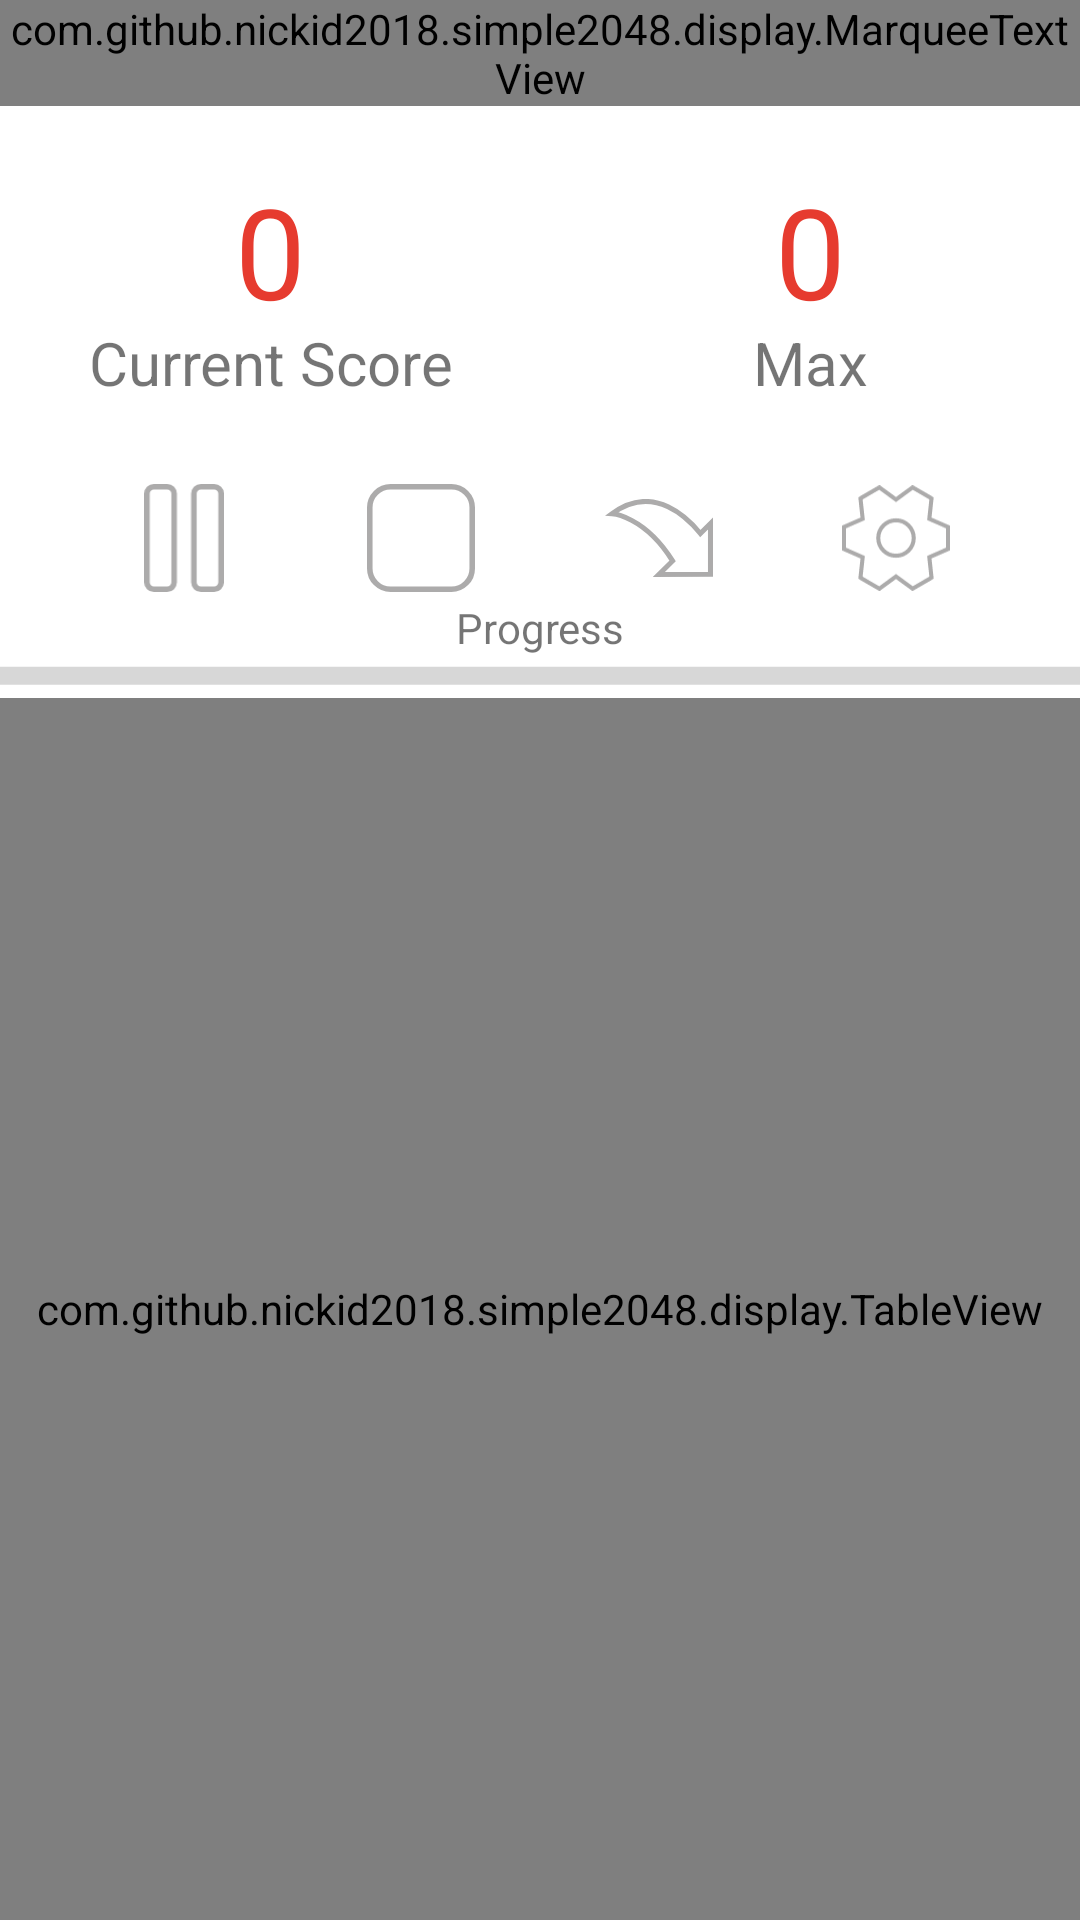

Locate icon controls on the screen. Image size 1080w x 1920h, boxes as (x1, y1, x2, y2).
run jump: (605, 499, 713, 577)
run pause: (144, 484, 224, 592)
run stop: (367, 484, 475, 592)
settings: (842, 485, 950, 591)
